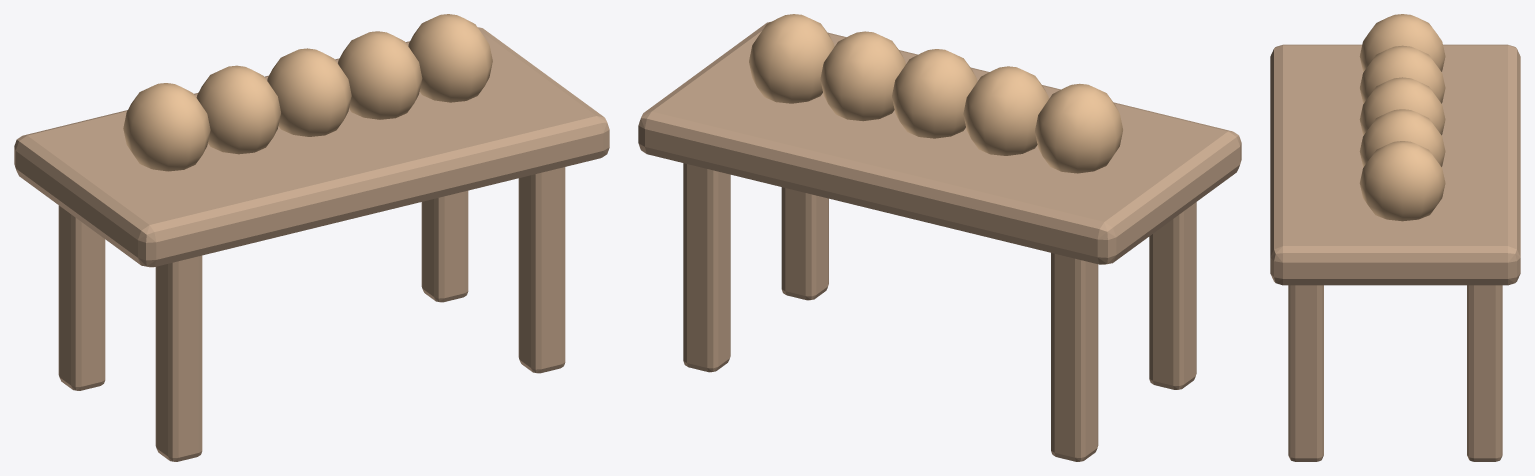
File: market.glb
3 renders of one model, left to right at view 1: azimuth 30°, elevation 25°; view 2: azimuth 150°, elevation 25°; view 3: azimuth 270°, elevation 25°, orthographic. The views are drawn at different scales.
Parts seen in each view (by area): view 1: Sculpt__Honey oak, Sculpt__Apples; view 2: Sculpt__Honey oak, Sculpt__Apples; view 3: Sculpt__Honey oak, Sculpt__Apples.
Part boxes in pixels (bbox=[...]): Sculpt__Honey oak: bbox=[14, 27, 609, 461]; Sculpt__Apples: bbox=[123, 14, 492, 171]; Sculpt__Honey oak: bbox=[638, 22, 1241, 461]; Sculpt__Apples: bbox=[749, 14, 1122, 173]; Sculpt__Honey oak: bbox=[1270, 44, 1520, 461]; Sculpt__Apples: bbox=[1359, 14, 1445, 221].
Size of the model in its own units: 1.4 by 0.91 by 0.7.
